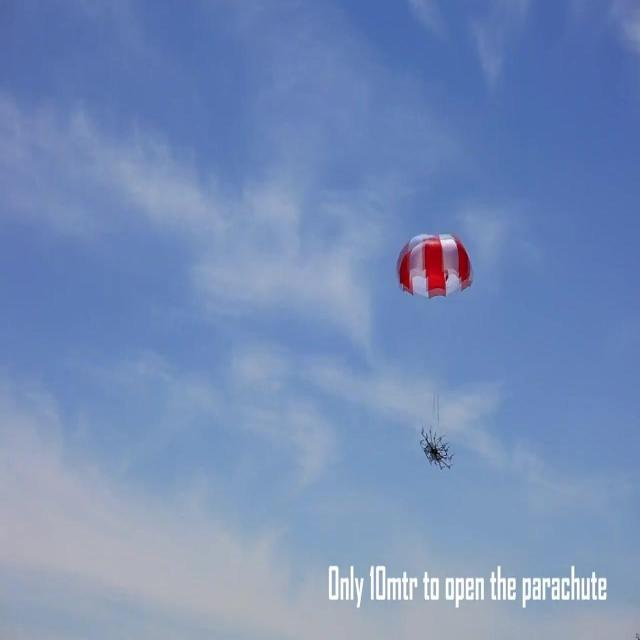drone: (416, 428, 456, 477)
